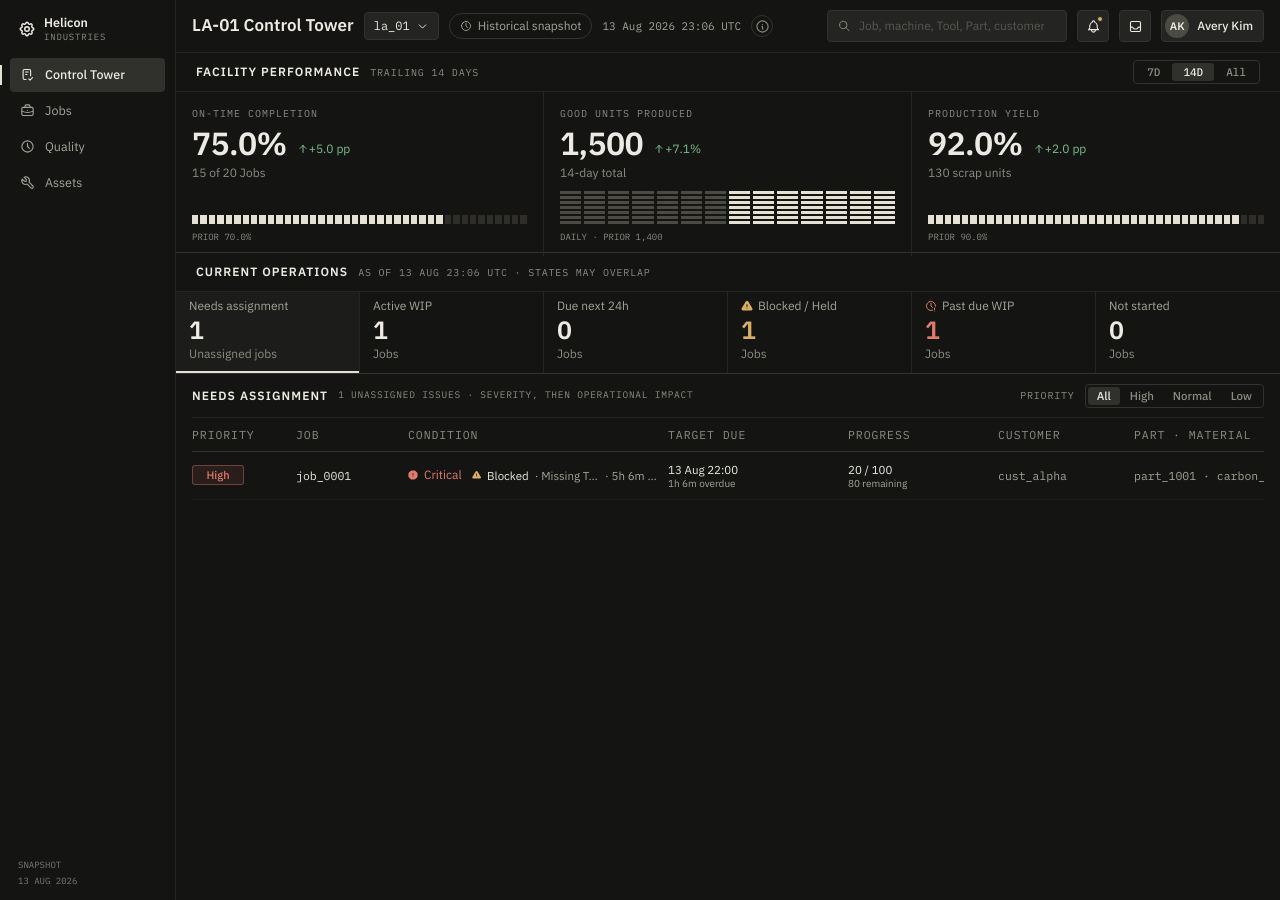
Scenario: ControlTowerScreen › loads job detail on demand, preserves missing values, and closes with Escape
The image size is (1280, 900).
Click the text "job_0001" at x=352, y=476, box [296, 452, 408, 500]
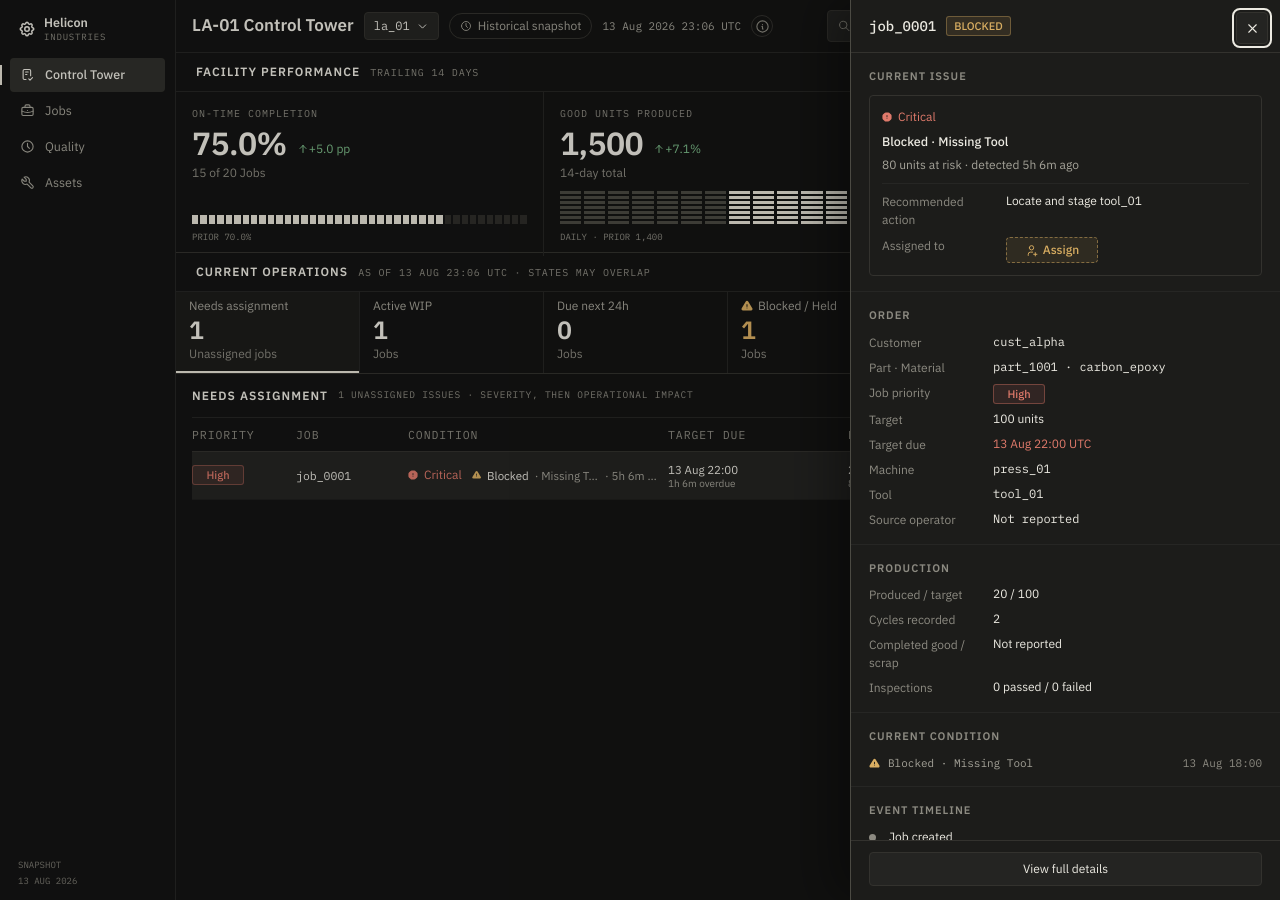
Press Escape
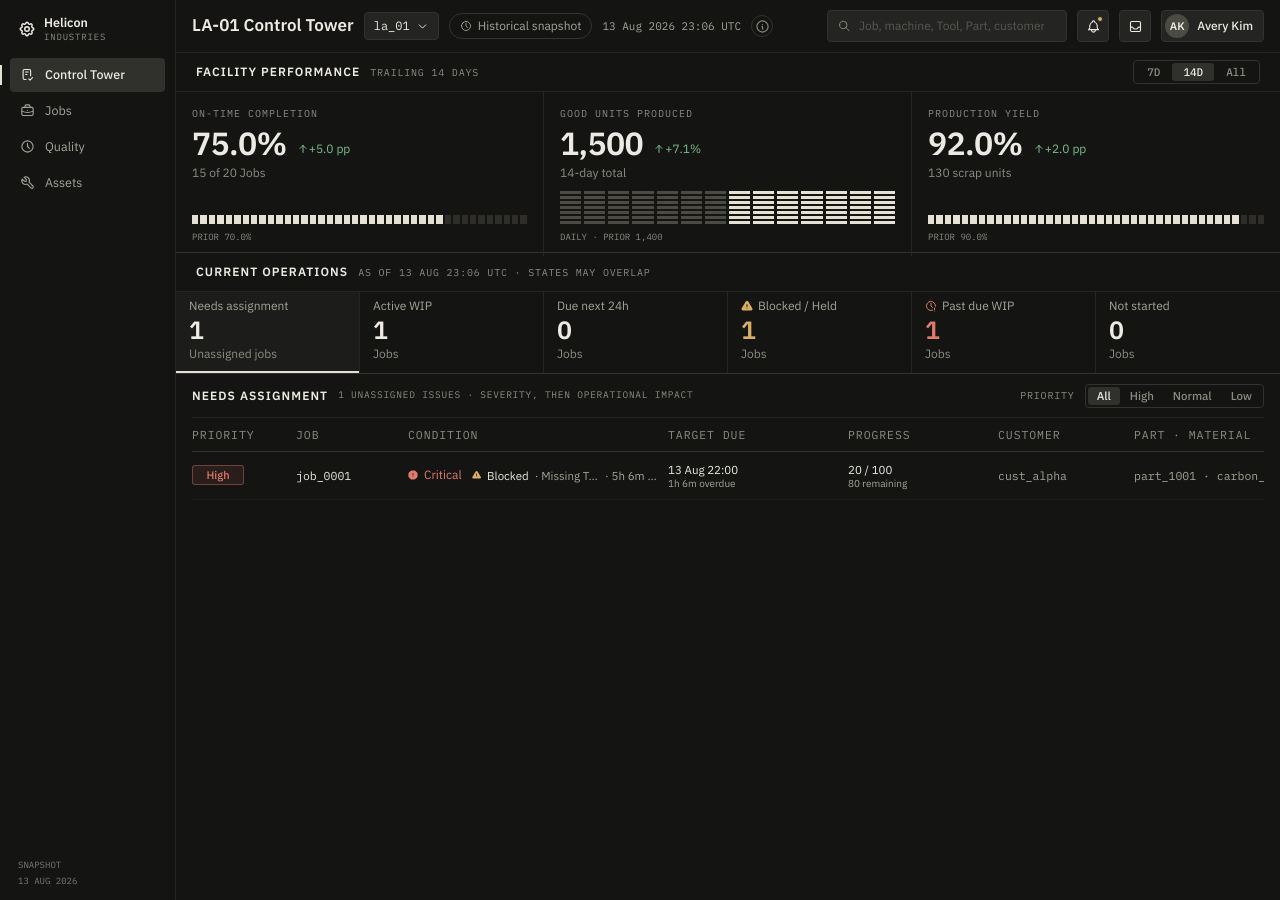
Check: the dialog is gone
